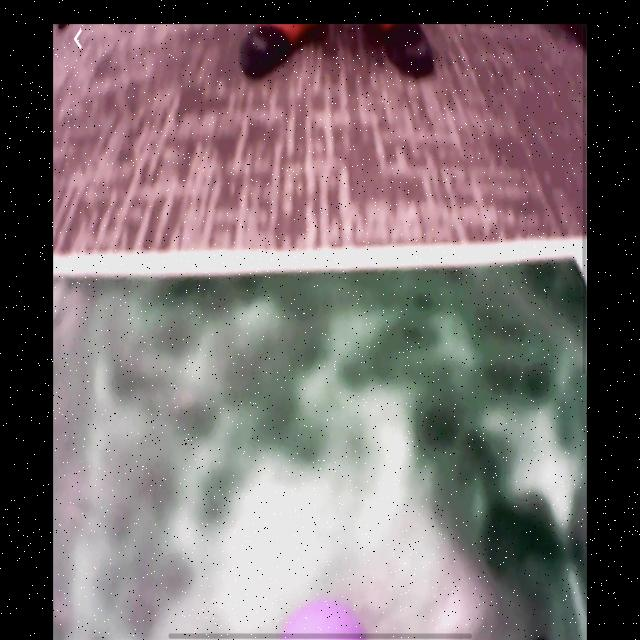ball: (281, 599, 367, 640)
